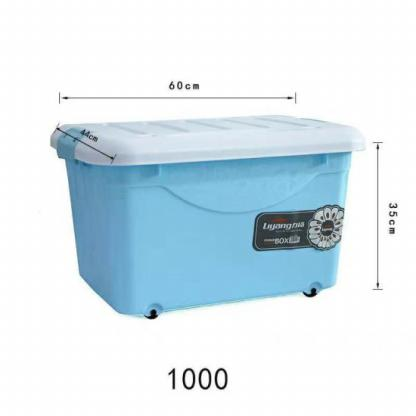plastic_box: (33, 76, 384, 326)
